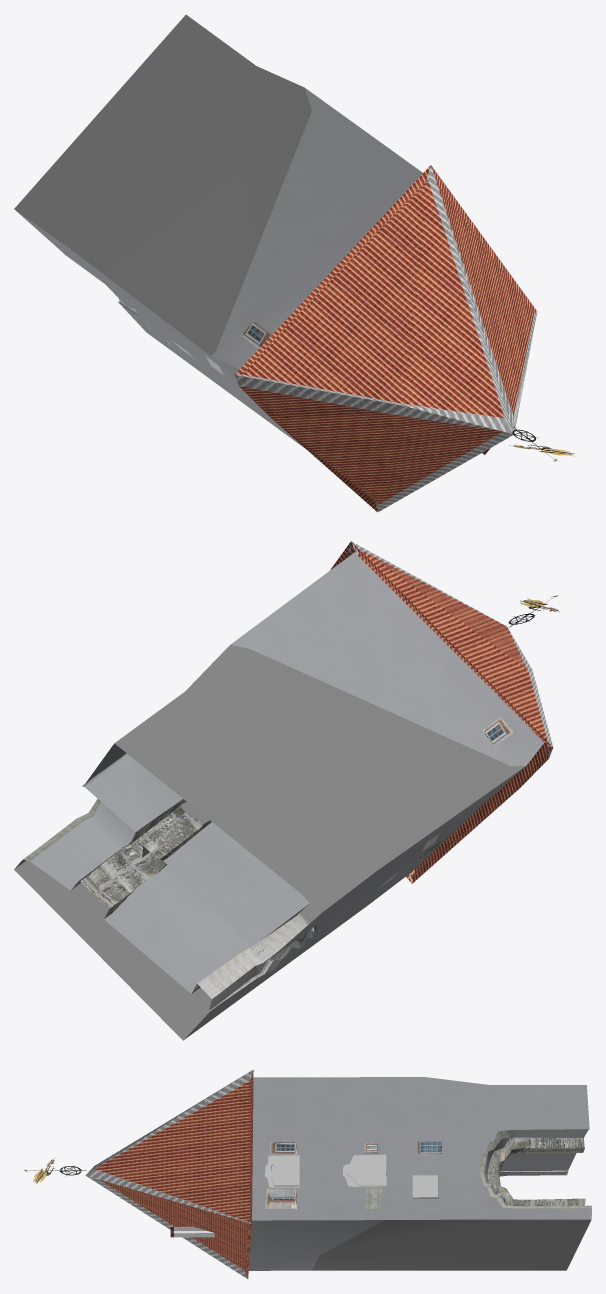
The model's file is Pikk_jalg_1-origo.obj.
3 renders of one model, top to bottom at view 1: azimuth 30°, elevation 25°; view 2: azimuth 150°, elevation 25°; view 3: azimuth 270°, elevation 25°, orthographic. The views are drawn at different scales.
Visible parts, largest first — view 1: Pikk_jalg_1; view 2: Pikk_jalg_1; view 3: Pikk_jalg_1.
Boxes of the visible parts, box(x1,y1,x2,y2) form: Pikk_jalg_1: box(14, 14, 576, 512); Pikk_jalg_1: box(14, 541, 559, 1040); Pikk_jalg_1: box(23, 1069, 591, 1278).
Size of the model in its own units: 13 by 13.5 by 30.83.
